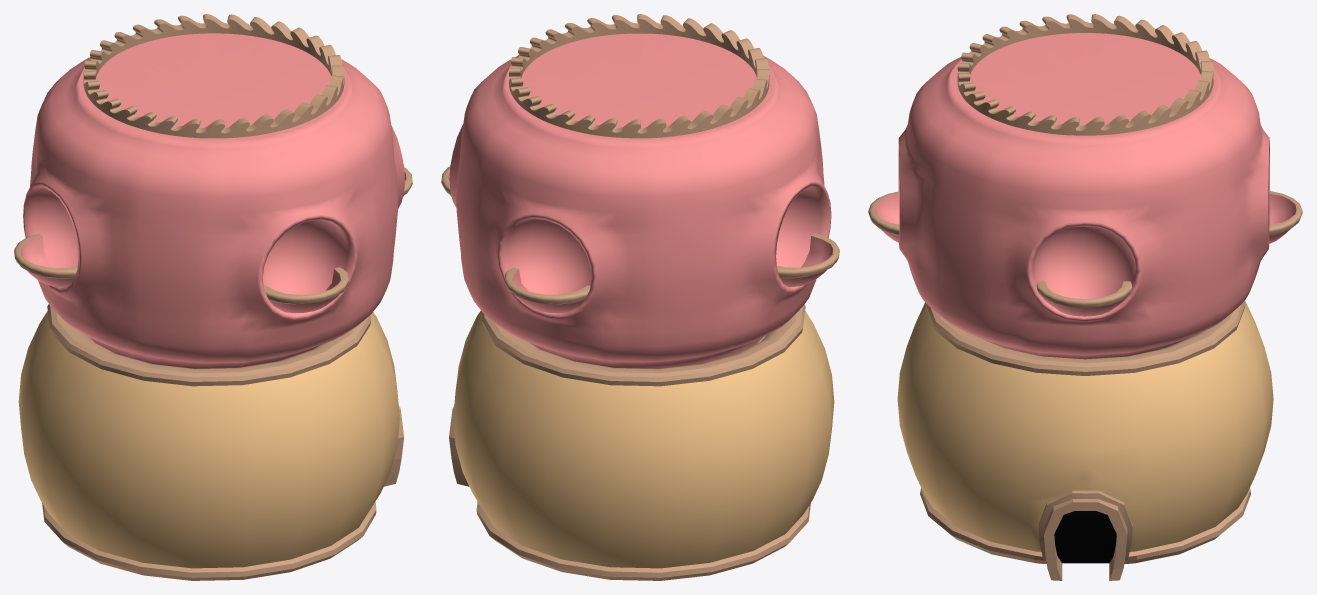
File: luxbuild01.fbx
3 renders of one model, left to right at view 1: azimuth 30°, elevation 25°; view 2: azimuth 150°, elevation 25°; view 3: azimuth 270°, elevation 25°, orthographic.
Parts seen in each view (by area): view 1: luxury_residential_building_01; view 2: luxury_residential_building_01; view 3: luxury_residential_building_01.
Boxes of the visible parts, x1,y1,x2,y2 form: luxury_residential_building_01: (14,14,412,580); luxury_residential_building_01: (441,14,839,580); luxury_residential_building_01: (868,14,1302,580).
Bounding box in the file's own units: 1300 × 1426 × 1293.
